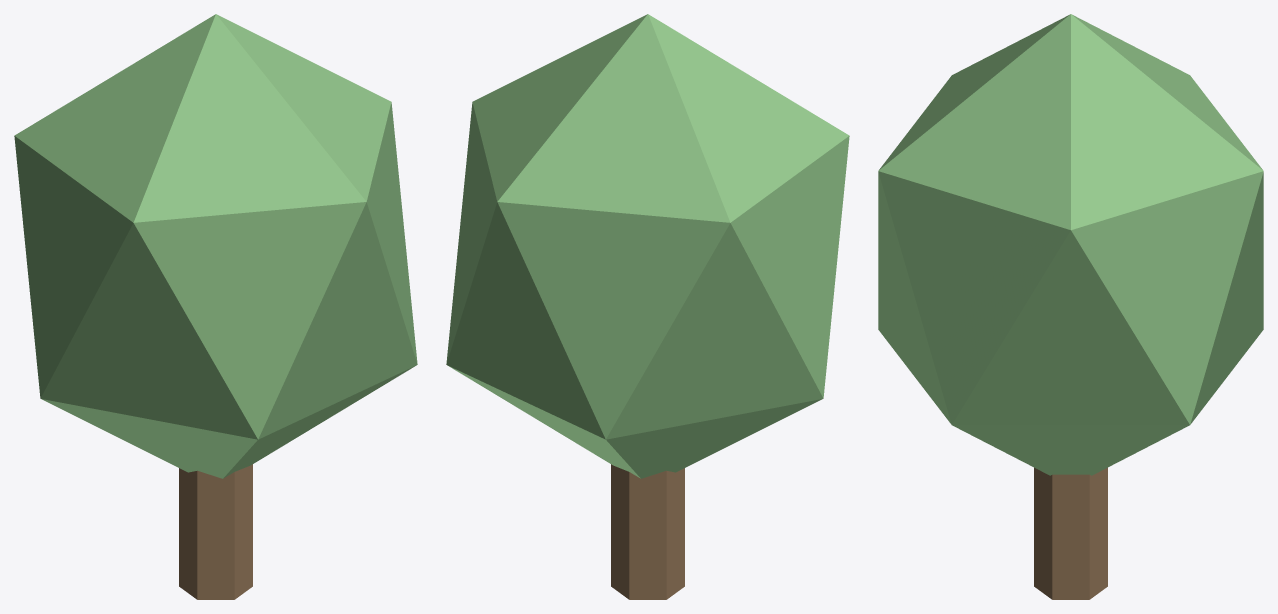
The model's file is tree_round.glb.
The picture shows the model from 3 angles, left to right: view 1: azimuth 30°, elevation 25°; view 2: azimuth 150°, elevation 25°; view 3: azimuth 270°, elevation 25°; orthographic projection.
Parts seen in each view (by area): view 1: cn, tr; view 2: cn, tr; view 3: cn, tr.
Part boxes in pixels (x1,y1,x2,y2): cn: [14, 14, 417, 478]; tr: [179, 464, 252, 599]; cn: [446, 14, 849, 478]; tr: [611, 464, 684, 599]; cn: [878, 14, 1263, 475]; tr: [1034, 467, 1107, 599].
Size of the model in its own units: 0.9839 by 1.53 by 0.9357.
